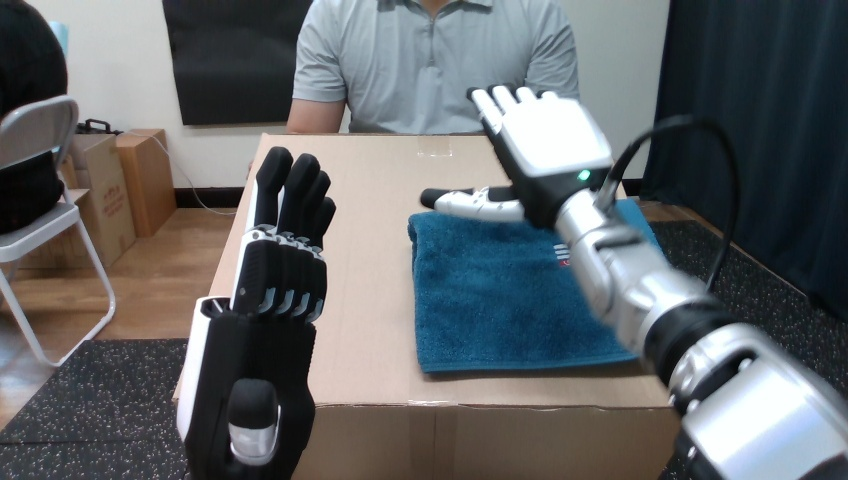left robot hand: (421, 86, 847, 478), (177, 147, 335, 478)
